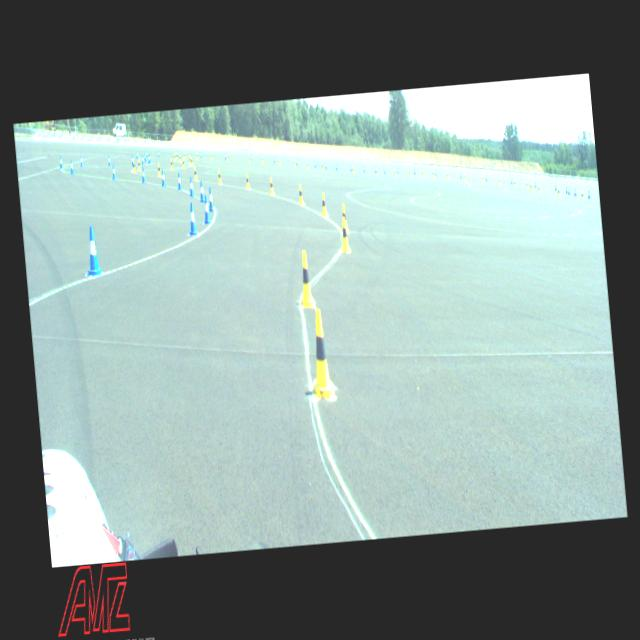blue_cone: (82, 225, 101, 276), (186, 202, 197, 236), (202, 194, 211, 223), (207, 186, 214, 211), (199, 180, 205, 202), (188, 177, 194, 196), (176, 172, 182, 190), (160, 168, 166, 186), (140, 166, 146, 182), (112, 164, 116, 180), (70, 160, 74, 173), (59, 156, 63, 168), (130, 155, 134, 166), (80, 155, 83, 166), (108, 156, 111, 167), (148, 154, 151, 164), (136, 151, 139, 159), (144, 153, 147, 161), (142, 154, 144, 164)
yellow_cone: (306, 308, 334, 398), (296, 250, 314, 308), (339, 216, 350, 252), (339, 204, 348, 232), (320, 192, 328, 215), (298, 184, 304, 204), (269, 177, 274, 194), (245, 173, 250, 189), (218, 168, 222, 184), (157, 162, 161, 176), (193, 167, 197, 180), (132, 160, 136, 172), (137, 158, 141, 170), (170, 158, 173, 170), (580, 191, 584, 200), (556, 187, 560, 196), (182, 158, 185, 168), (537, 185, 540, 193), (530, 182, 533, 190), (513, 179, 516, 186)
